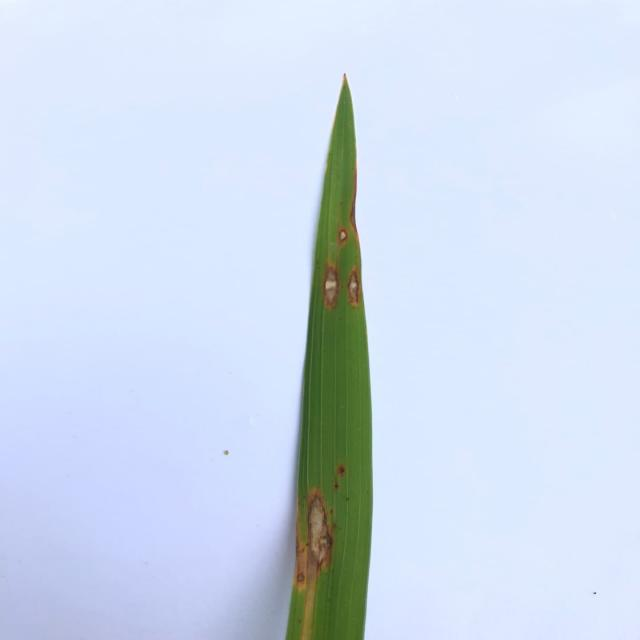leaf blast: (303, 484, 334, 572), (291, 507, 311, 590), (319, 262, 342, 310), (348, 169, 361, 241), (346, 263, 364, 310), (335, 222, 348, 248), (332, 460, 349, 478)
